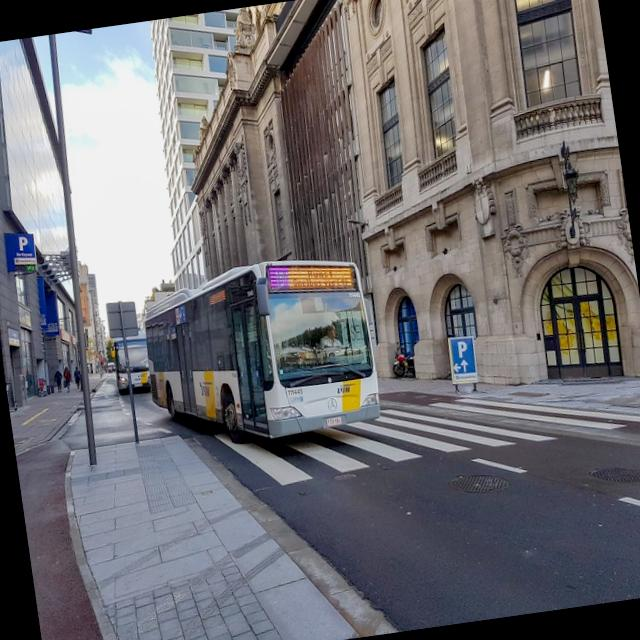bus-number: (269, 265, 291, 292)
